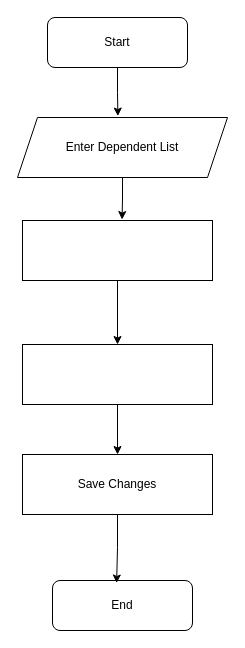
This 245x648 diagram has some shape labels left out. The centre of each missing label's shape, as x and y in pixels:
Link to Colonists: the point at 117,250
Update Information: the point at 117,374
